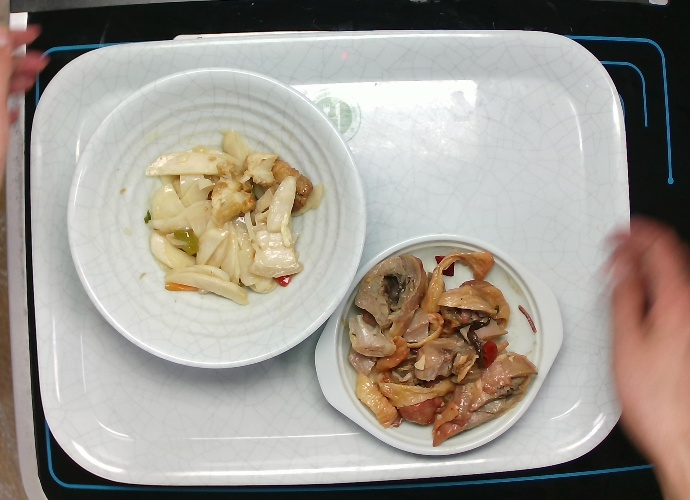JYsf-Shuang_Er_Pan: (311, 229, 568, 464)
JYsf-Xiao_Tang_Wan: (61, 65, 368, 371)
